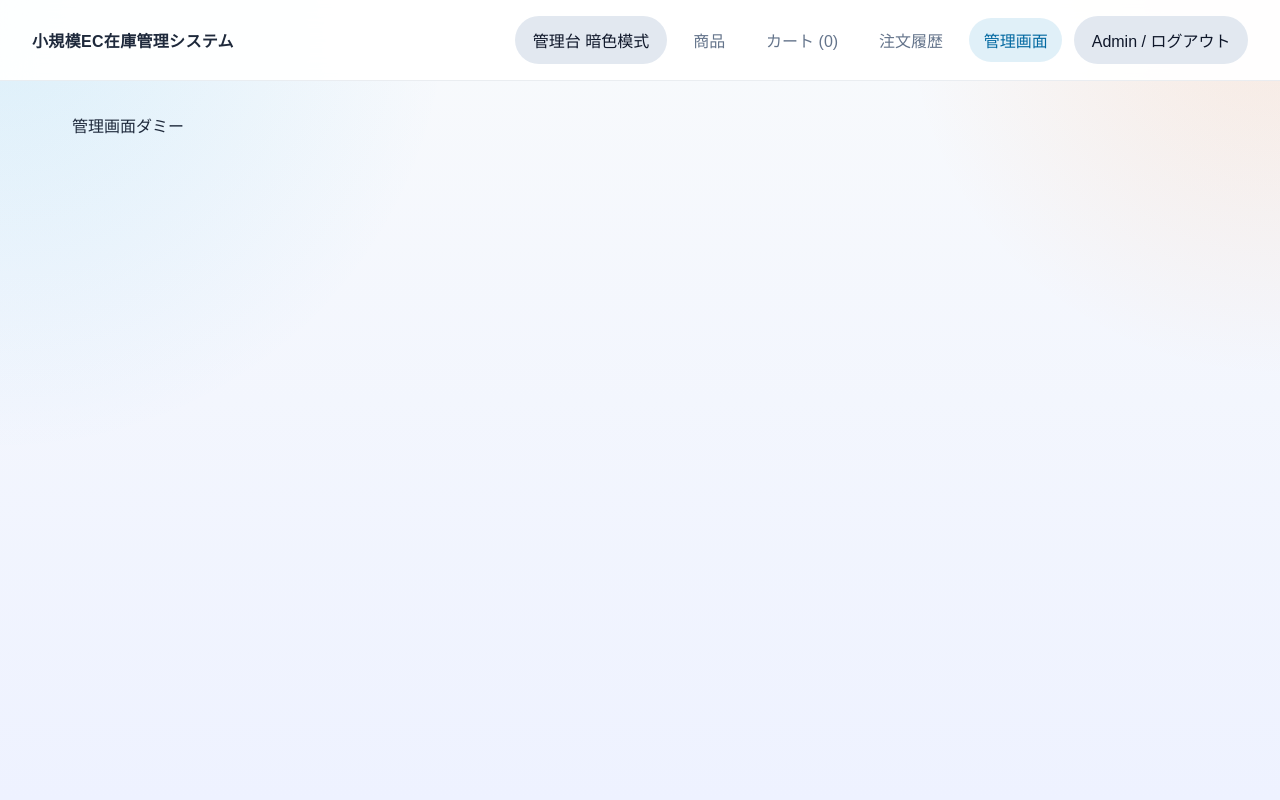
Test: App › toggles the admin theme on admin pages
The width and height of the screenshot is (1280, 800).
Step 1. Click the button "管理台 暗色模式" → (591, 40), box [515,16,667,64]
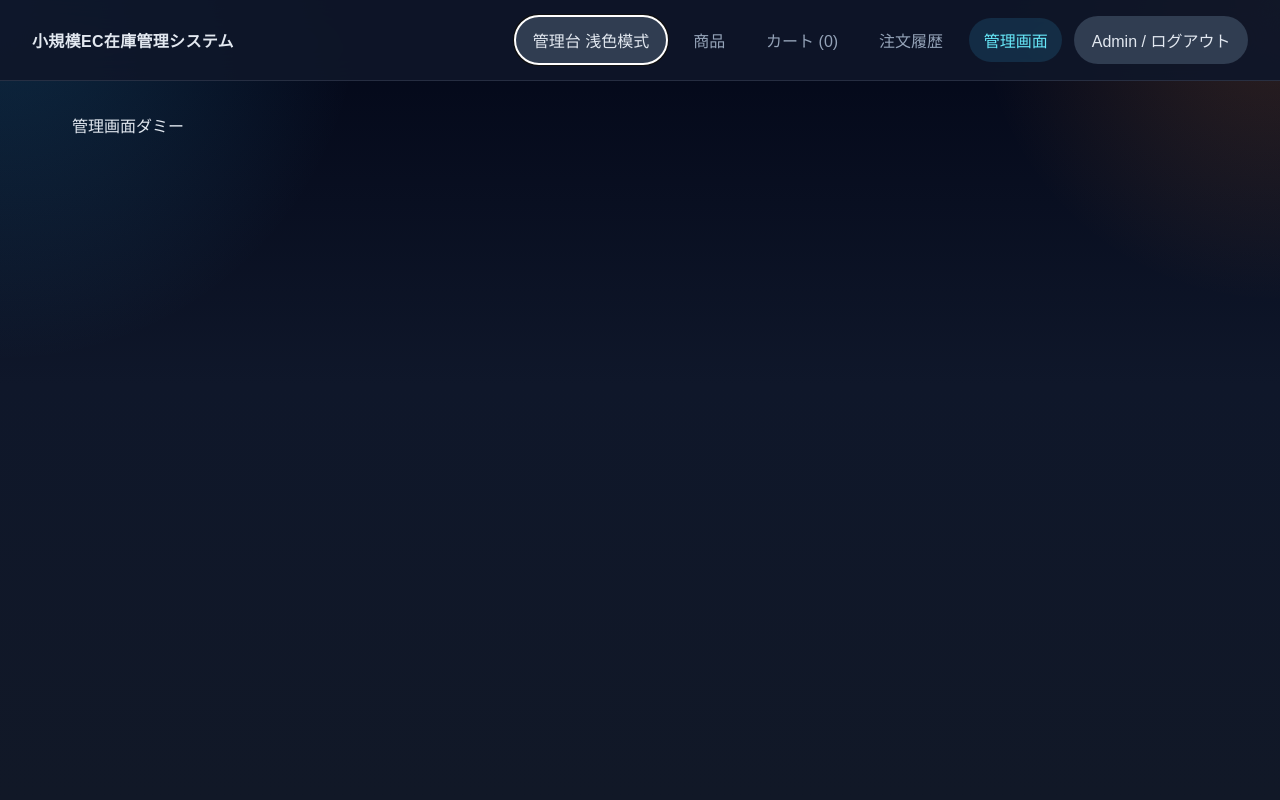
Expected: the button "管理台 浅色模式" is shown, [515,16,667,64]
